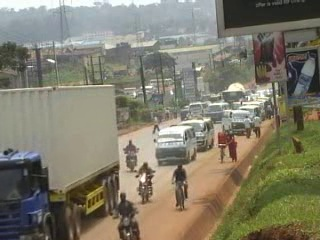Car: (178, 104, 188, 121)
Motorcycle: (109, 193, 146, 239), (131, 164, 159, 205), (120, 138, 142, 171)
